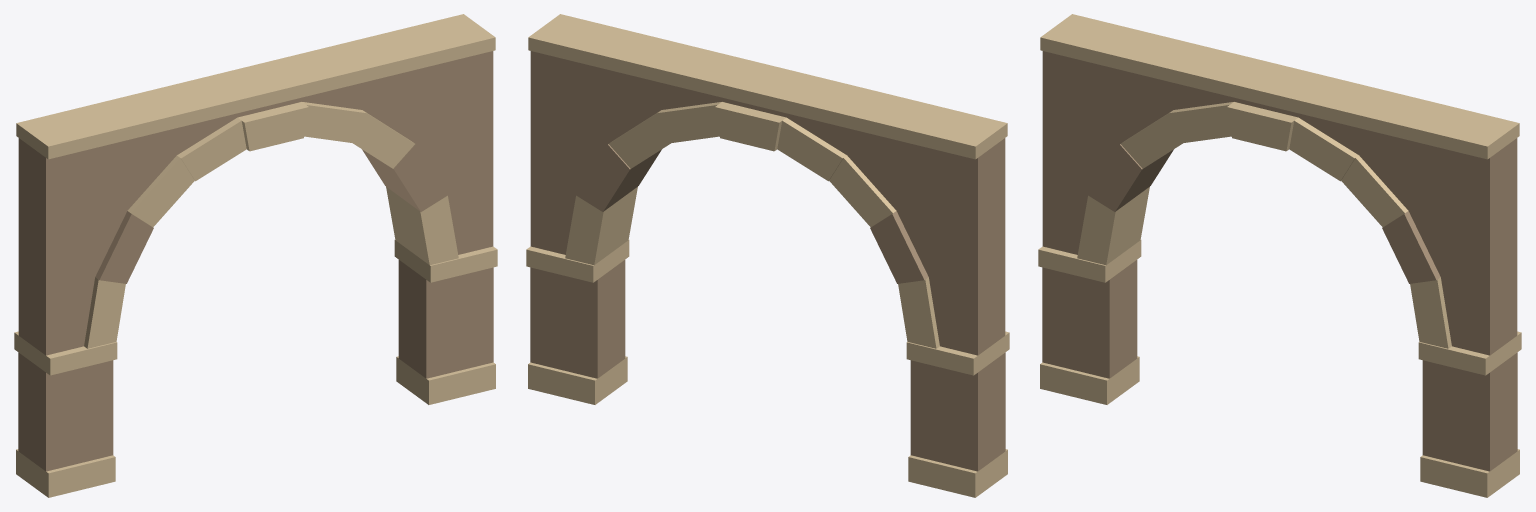
The model's file is carriage_arch.glb.
3 renders of one model, left to right at view 1: azimuth 30°, elevation 25°; view 2: azimuth 150°, elevation 25°; view 3: azimuth 330°, elevation 25°, orthographic.
Parts seen in each view (by area): view 1: Carriage arch; view 2: Carriage arch; view 3: Carriage arch.
Boxes of the visible parts, bbox=[...] form: Carriage arch: bbox=[14, 14, 497, 497]; Carriage arch: bbox=[526, 14, 1009, 497]; Carriage arch: bbox=[1038, 14, 1521, 497].
Size of the model in its own units: 2 by 1.5 by 0.322.
